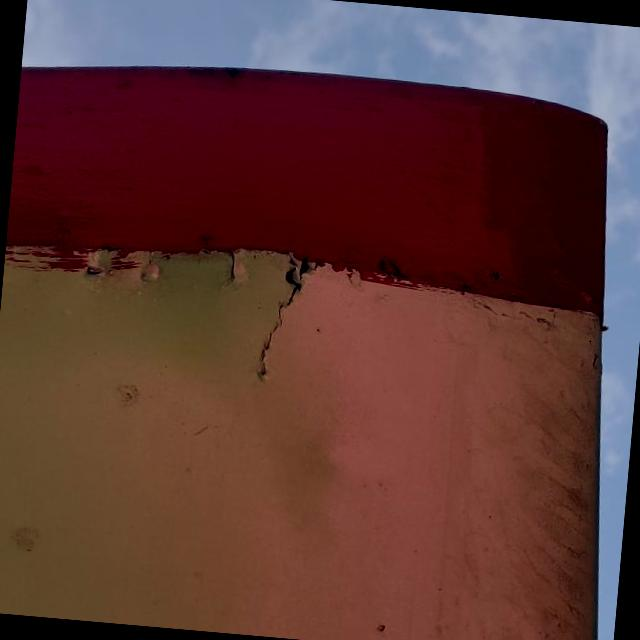crack: (241, 245, 333, 401), (208, 238, 256, 298)
